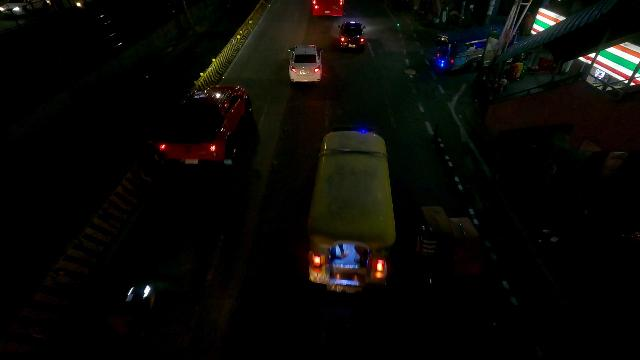car: (288, 43, 325, 86), (337, 18, 366, 51)
jeepney: (303, 128, 395, 293), (431, 25, 496, 70)
truck: (153, 83, 250, 170)
